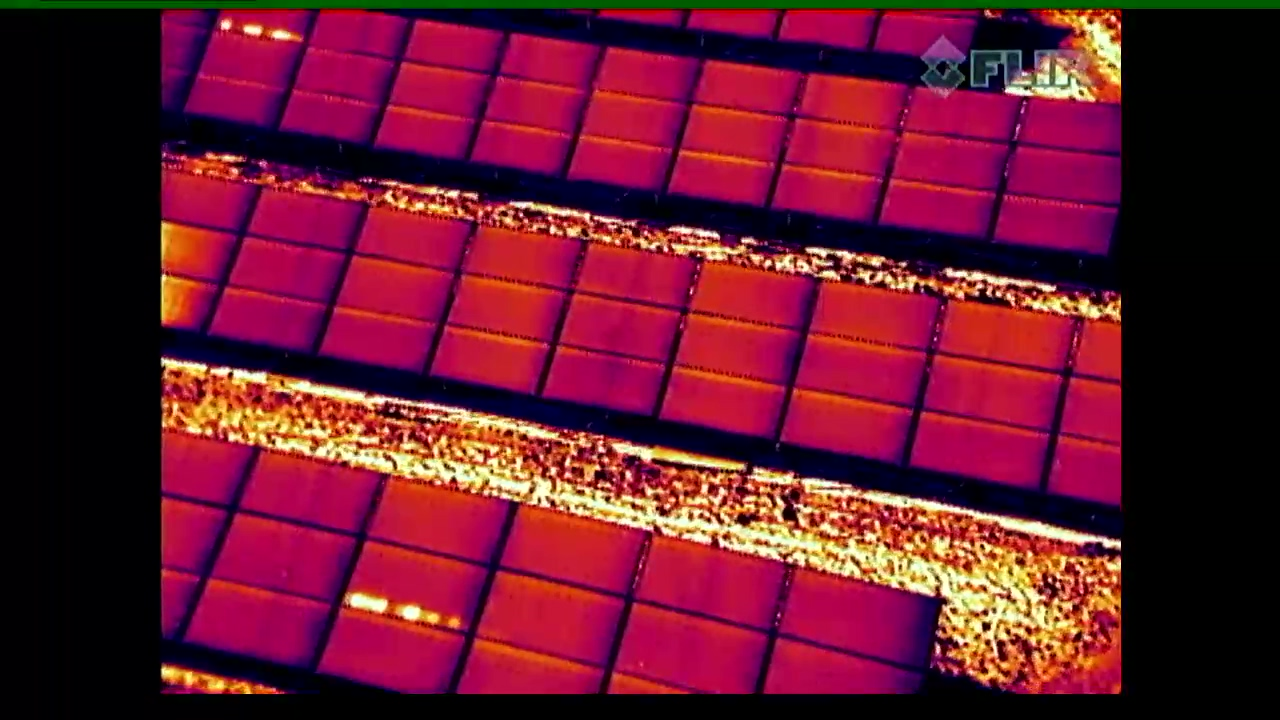hotspot: (316, 480, 521, 693), (189, 6, 323, 124)
